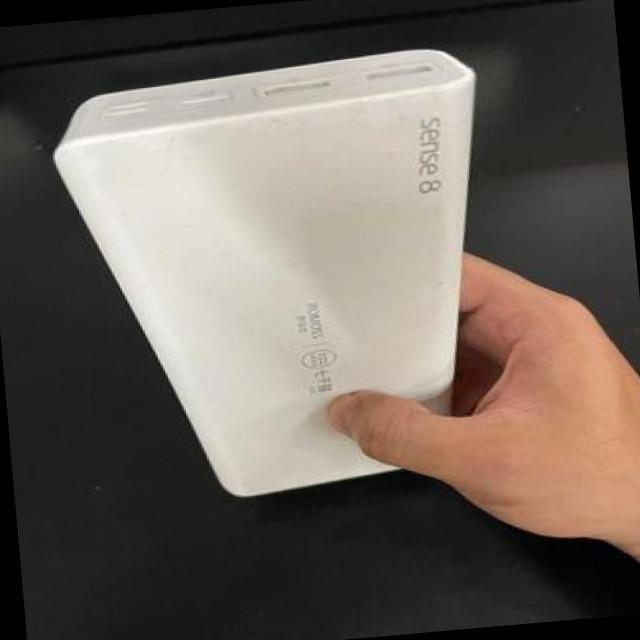portable-charger: (34, 28, 534, 520)
